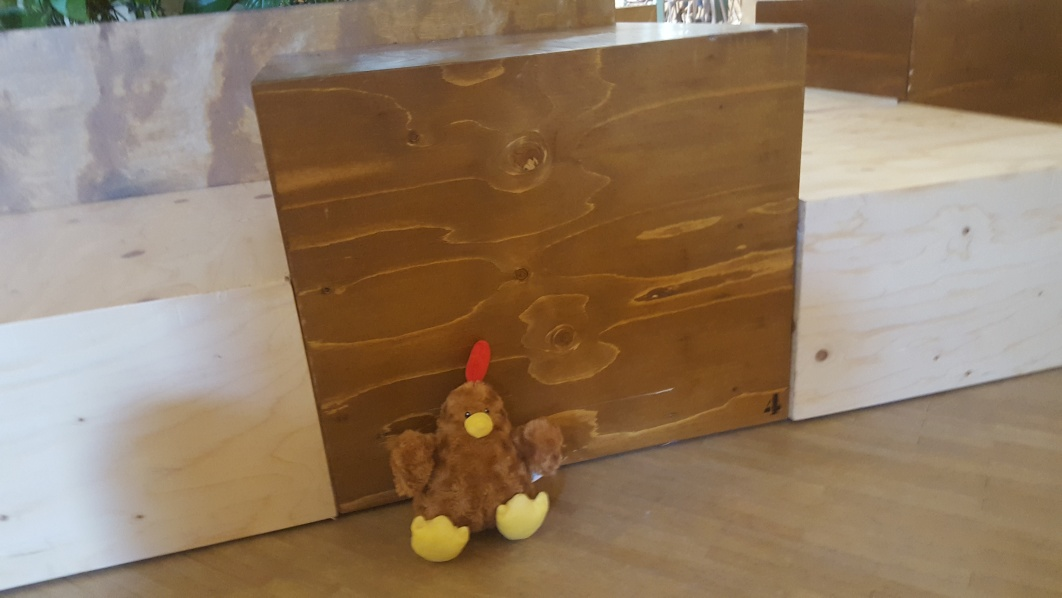chicken: (387, 335, 569, 560)
